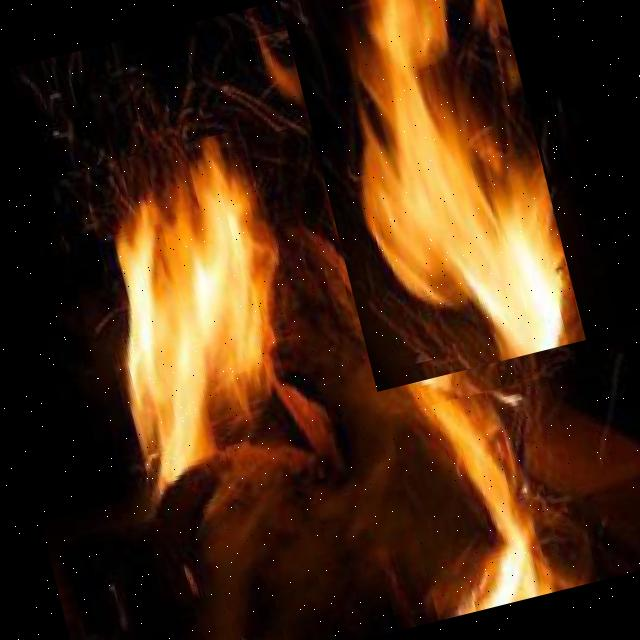fire: (279, 0, 585, 391), (48, 128, 329, 524), (387, 376, 598, 620)
